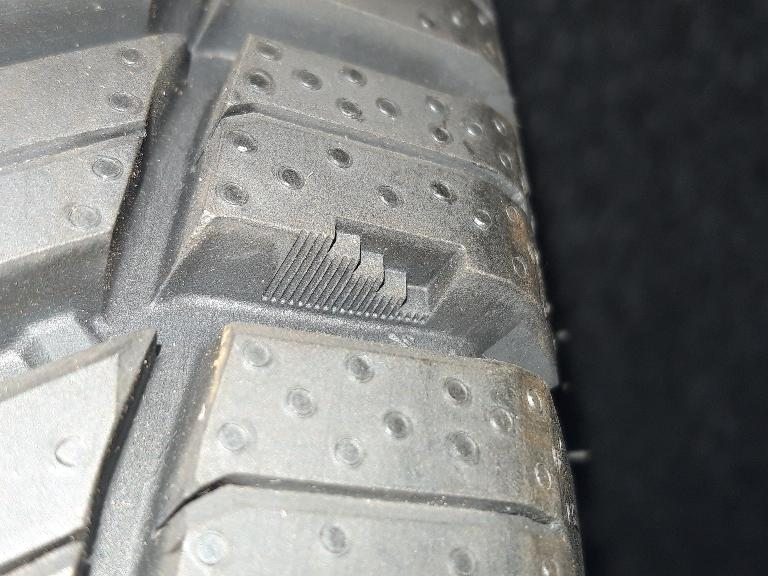temoin:100: (256, 210, 473, 338)
